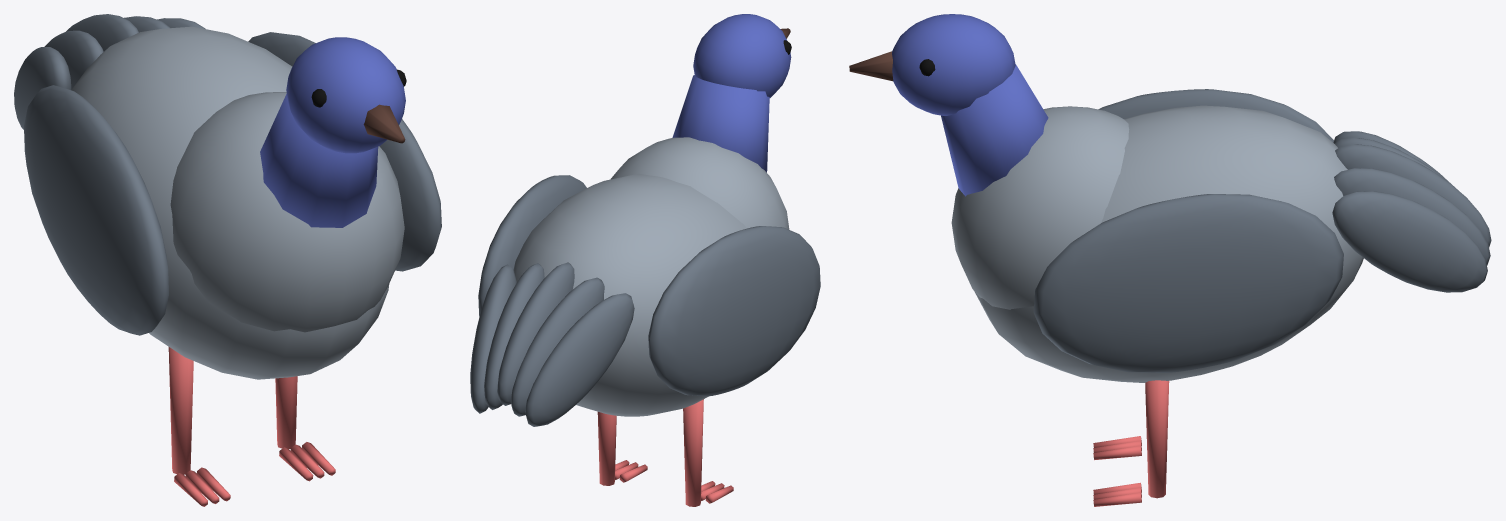
Rendered from pigeon.glb.
3 renders of one model, left to right at view 1: azimuth 30°, elevation 25°; view 2: azimuth 150°, elevation 25°; view 3: azimuth 270°, elevation 25°, orthographic. The views are drawn at different scales.
Parts seen in each view (by area): view 1: pigeon; view 2: pigeon; view 3: pigeon.
Part boxes in pixels (left/top/right/bottom): pigeon: left=14, top=14, right=441, bottom=506; pigeon: left=470, top=14, right=820, bottom=506; pigeon: left=849, top=14, right=1491, bottom=506.
Bounding box in the file's own units: 0.303 × 0.4815 × 0.6092.
